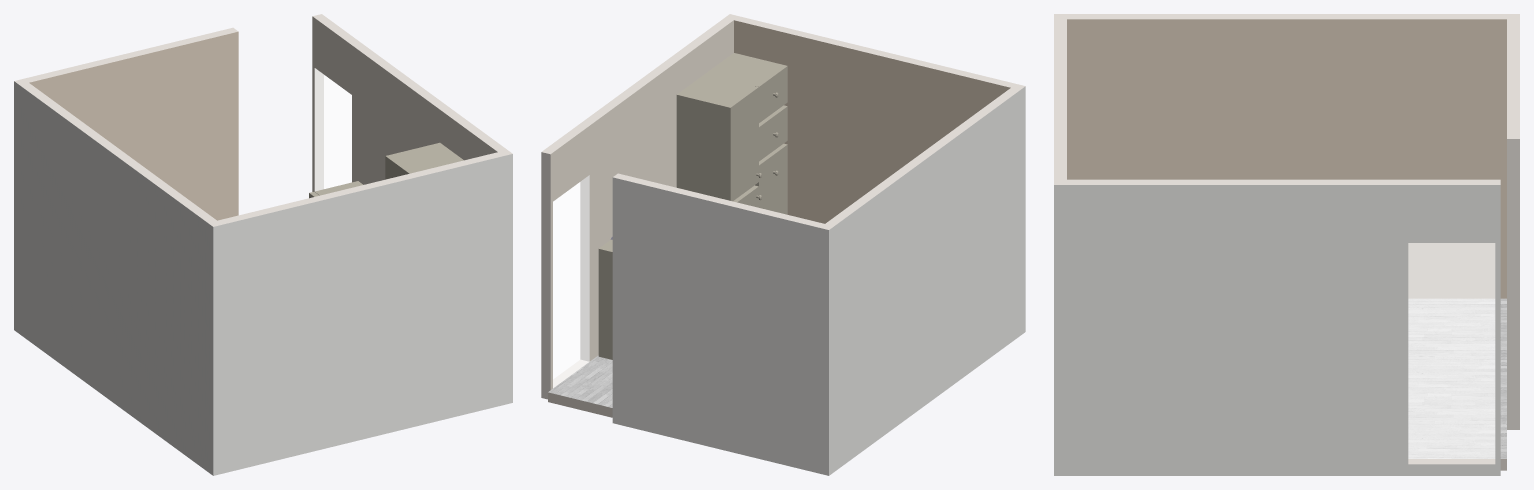
The model's file is rangement_papi.glb.
3 views of the same model, side by side, from view 1: azimuth 30°, elevation 25°; view 2: azimuth 150°, elevation 25°; view 3: azimuth 270°, elevation 25° (orthographic). The views are drawn at different scales.
Parts seen in each view (by area): view 1: wall_1 (×2), wall_2 (×2), wall_3 (×2), wall_0 (×3), door_0 (×2), storage0; view 2: wall_3 (×2), wall_2 (×2), wall_1 (×2), wall_0 (×3), storage0, door_0 (×2), floor_Other_0 (×2), storage1; view 3: wall_0 (×3), wall_2 (×2), door_0 (×2), floor_Other_0, wall_3 (×2), wall_1.
Boxes of the visible parts, left/top/right/bottom form: wall_1 (×2): left=213, top=152, right=512, bottom=475; wall_2 (×2): left=14, top=81, right=216, bottom=475; wall_3 (×2): left=15, top=27, right=238, bottom=220; wall_0 (×3): left=312, top=14, right=512, bottom=191; door_0 (×2): left=315, top=68, right=351, bottom=190; storage0: left=385, top=142, right=463, bottom=179; wall_3 (×2): left=612, top=173, right=828, bottom=475; wall_2 (×2): left=825, top=86, right=1025, bottom=475; wall_1 (×2): left=730, top=14, right=1025, bottom=223; wall_0 (×3): left=541, top=14, right=733, bottom=399; storage0: left=676, top=53, right=787, bottom=214; door_0 (×2): left=553, top=175, right=589, bottom=387; floor_Other_0 (×2): left=548, top=355, right=612, bottom=417; storage1: left=598, top=239, right=612, bottom=359; wall_0 (×3): left=1054, top=179, right=1500, bottom=475; wall_2 (×2): left=1055, top=14, right=1518, bottom=298; door_0 (×2): left=1408, top=243, right=1494, bottom=458; floor_Other_0: left=1408, top=298, right=1506, bottom=458; wall_3 (×2): left=1507, top=14, right=1519, bottom=429; wall_1: left=1054, top=14, right=1066, bottom=184.
Size of the model in its own units: 3.18 by 2.52 by 3.66.
Materials: 16 (1 with a texture image).
